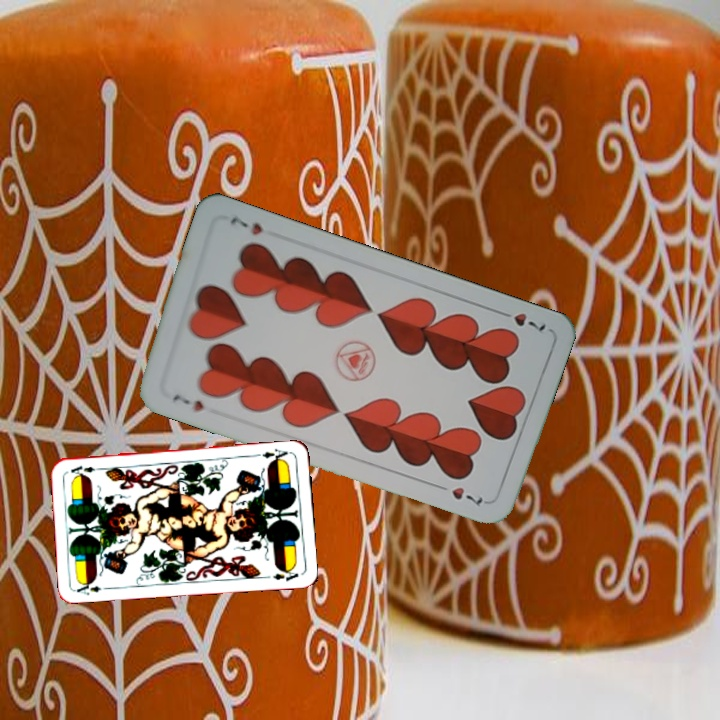EA: (253, 445, 293, 465), (73, 578, 113, 598)
H7: (493, 306, 549, 337), (169, 389, 207, 415)
